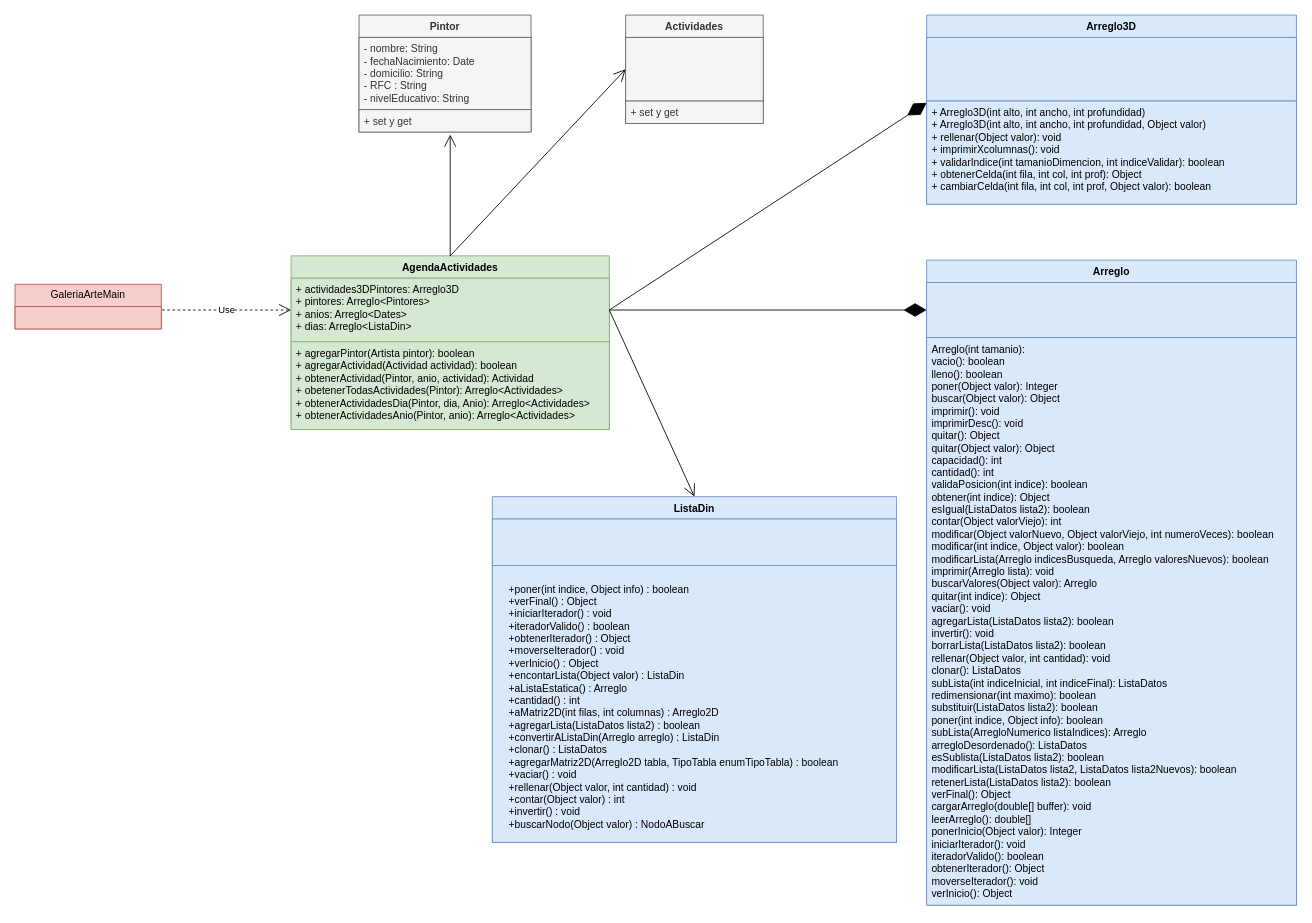
The diagram is 1312 pixels wide and 923 high, and some of its shapes have lost their labels. Each missing label, with the centre of its shape:
- datos : Object [ ] - capacidad : int - indiceSuperior : int: (1111,310)
- datos : Object [ ] [ ] [ ] - ancho: int - alto: int - profundidad: int: (1111,69)
- fecha: Date - hora: Time - descripcion: String - lugar: String: (694,69)
-primero : Nodo -ultimo : Nodo -iterador : Nodo: (694,541)
main(args: String[]): void: (87,317)
